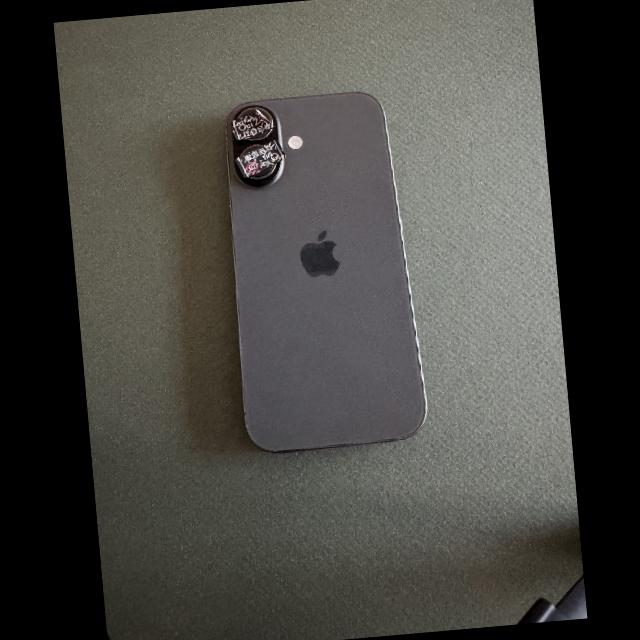lens: (238, 107, 273, 124), (249, 165, 276, 179)
phone: (227, 93, 427, 452)
sticker: (235, 140, 285, 178), (230, 109, 273, 140)
